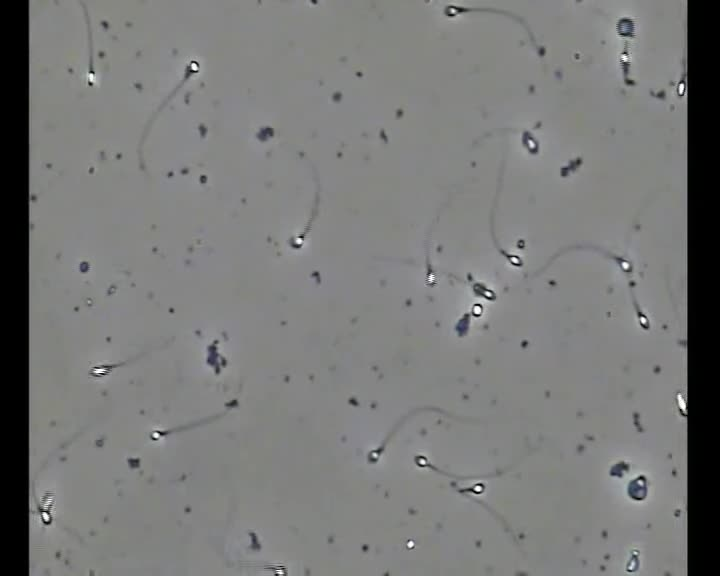spermhead: (627, 475, 647, 501), (472, 282, 495, 300), (616, 16, 634, 38), (522, 130, 538, 154), (609, 460, 629, 478), (455, 313, 470, 336), (625, 550, 639, 573), (503, 251, 523, 267), (39, 491, 54, 512), (444, 4, 468, 17), (89, 364, 113, 377), (184, 59, 200, 78), (623, 64, 635, 86), (616, 257, 632, 273), (637, 310, 650, 329), (290, 233, 305, 249), (367, 447, 382, 463), (676, 393, 686, 417), (150, 428, 168, 441), (425, 266, 436, 286), (414, 454, 429, 468), (620, 46, 631, 65), (676, 77, 686, 97), (270, 564, 288, 575), (40, 510, 53, 525), (470, 482, 485, 495), (471, 302, 483, 318), (86, 68, 96, 86), (224, 399, 238, 408), (407, 538, 415, 549), (465, 272, 473, 283)
